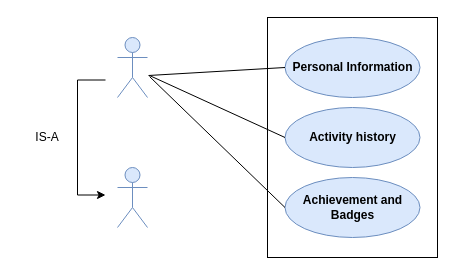
Image size: 455x275. Some labels were removed from this diagram. Each missing label, with the centre of its shape:
"Contestant" goes at point 132,67.
"Problem-Setter" goes at point 132,197.
